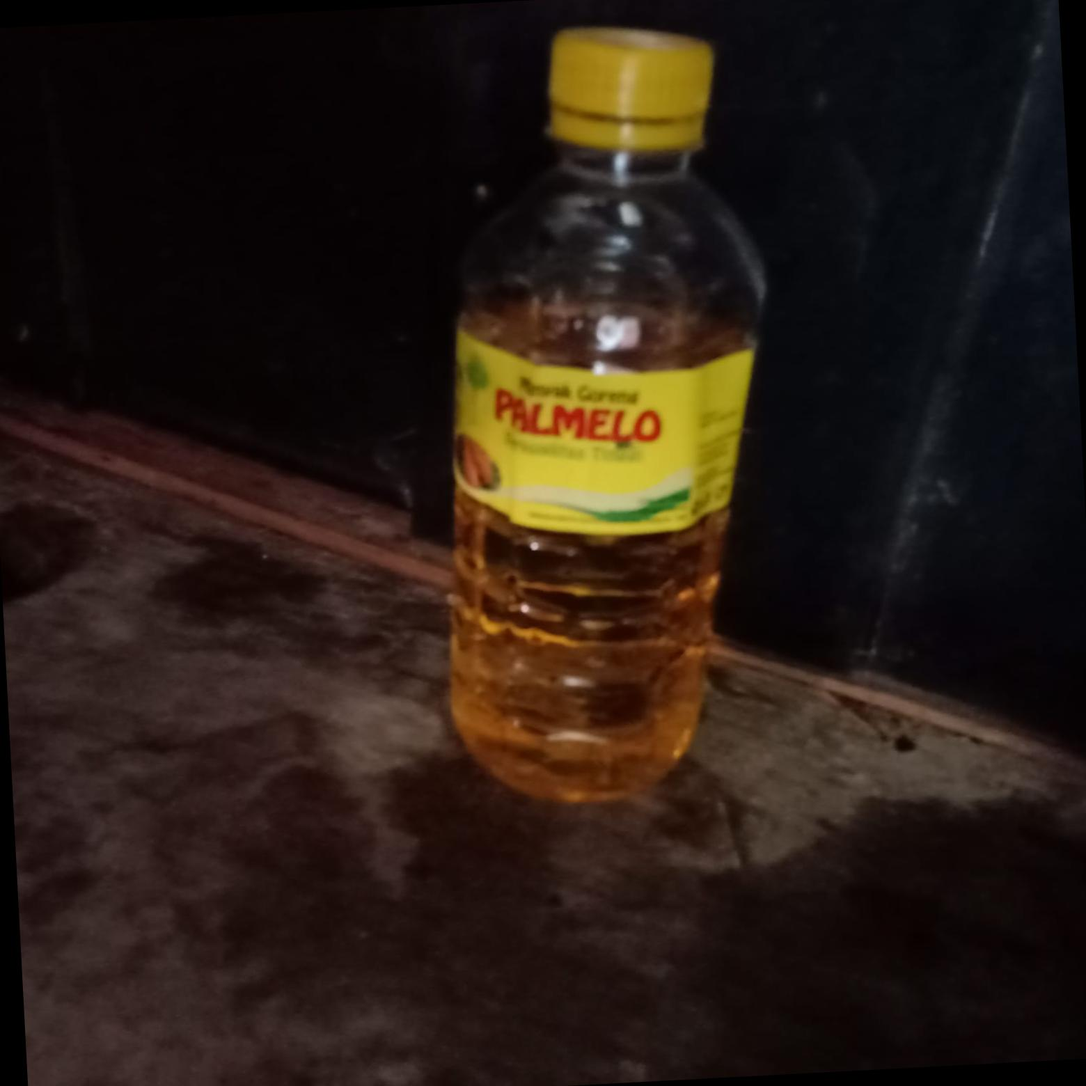Plastik: (420, 25, 777, 811)
